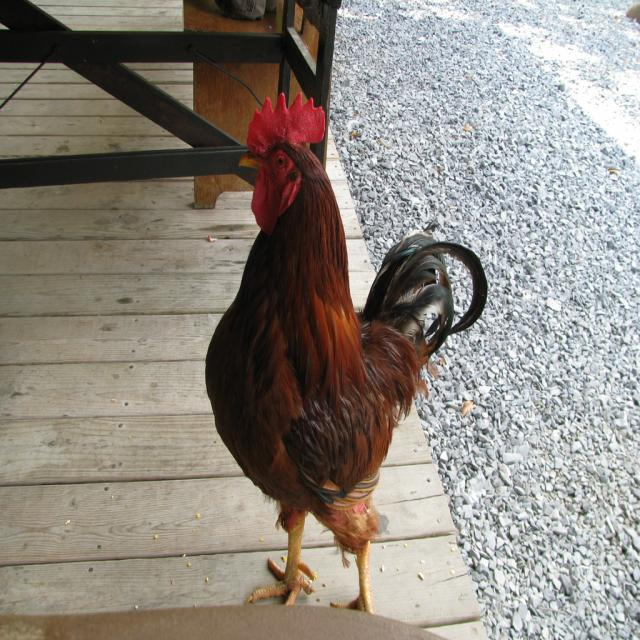Chicken: (204, 88, 485, 617)
